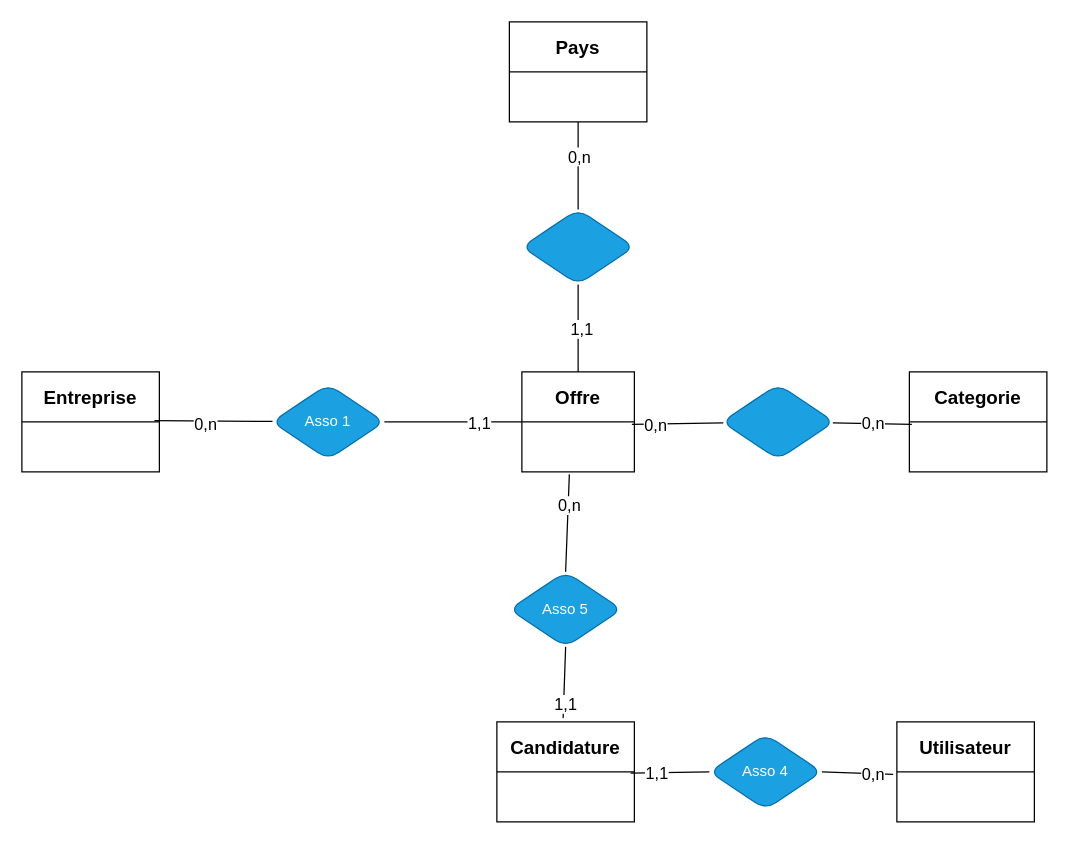
This 1069x844 diagram has some shape labels left out. Each missing label, with the centre of its shape:
"Asso 2" goes at [577,246].
"Asso 3" goes at [777,421].
